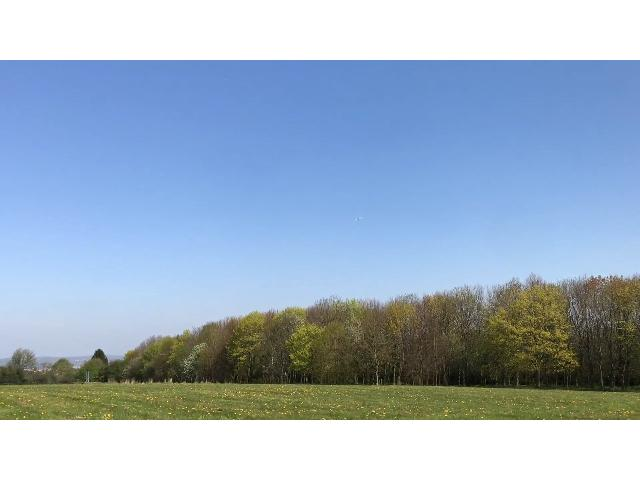Anti-Drone: (346, 210, 372, 228)
